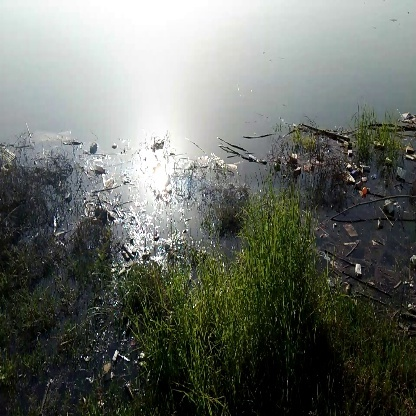branch: (330, 190, 416, 228)
